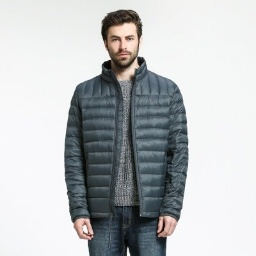face: (101, 10, 144, 67)
